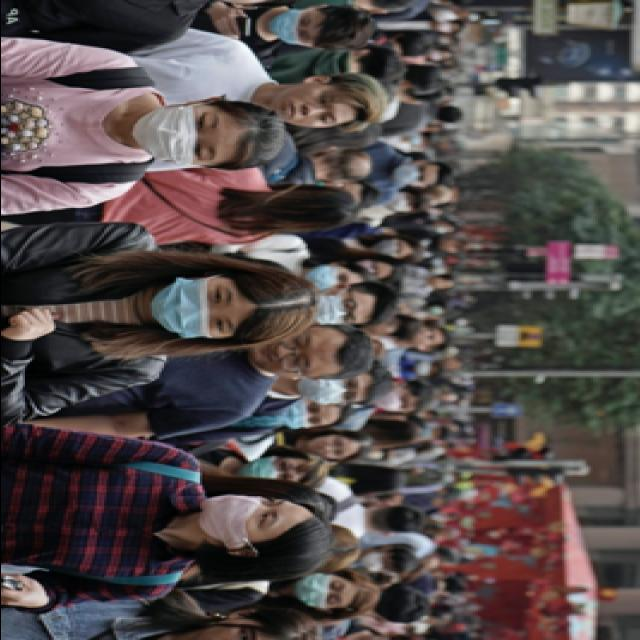mask: (127, 102, 225, 166), (148, 274, 242, 339), (190, 494, 288, 548), (292, 371, 362, 408), (300, 290, 360, 328), (288, 574, 346, 610), (264, 8, 318, 46), (236, 456, 300, 485), (276, 398, 326, 432), (372, 387, 414, 416), (306, 264, 352, 290), (396, 162, 430, 188), (360, 552, 396, 574), (372, 238, 408, 258), (350, 261, 386, 280), (388, 190, 419, 212), (432, 20, 461, 34), (427, 48, 453, 62), (414, 362, 438, 376), (436, 34, 460, 46), (408, 134, 430, 146), (426, 306, 451, 316), (441, 472, 460, 485), (431, 224, 453, 235)
no_mask: (268, 82, 342, 132), (247, 330, 321, 380), (302, 437, 350, 462), (408, 328, 442, 349)
